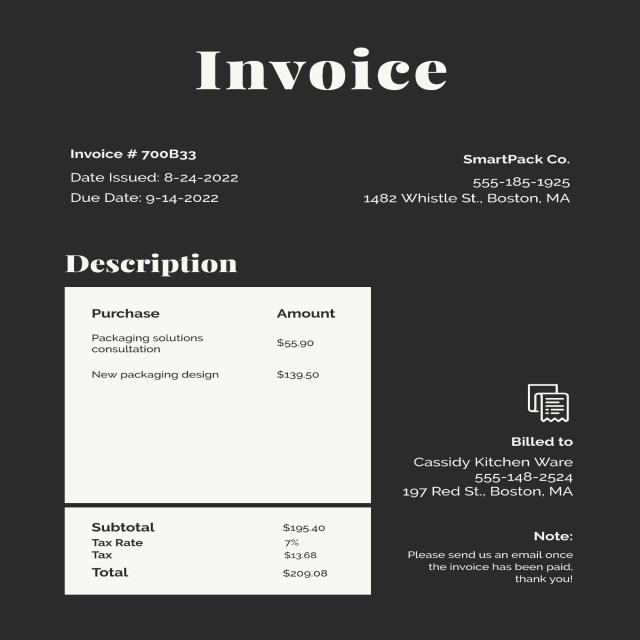paragraph: (73, 296, 360, 391), (192, 29, 459, 102), (78, 518, 346, 590), (353, 142, 584, 211), (52, 139, 260, 209), (398, 429, 584, 504), (398, 524, 582, 596), (52, 249, 262, 278)
